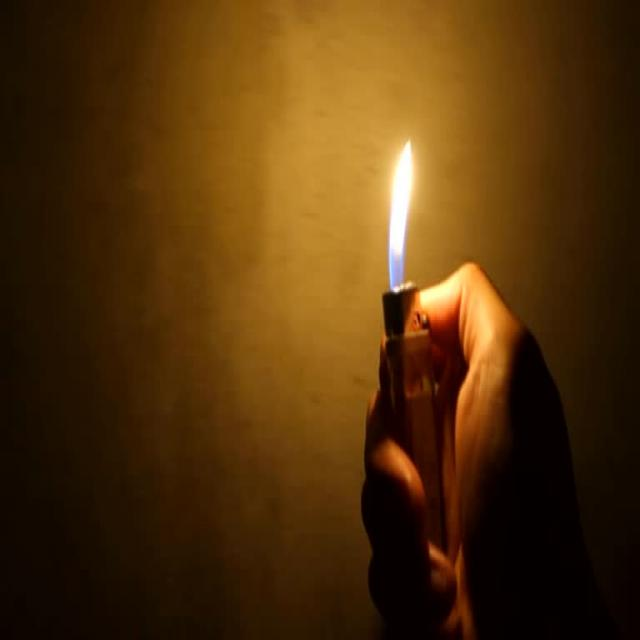fire: (388, 138, 413, 292)
